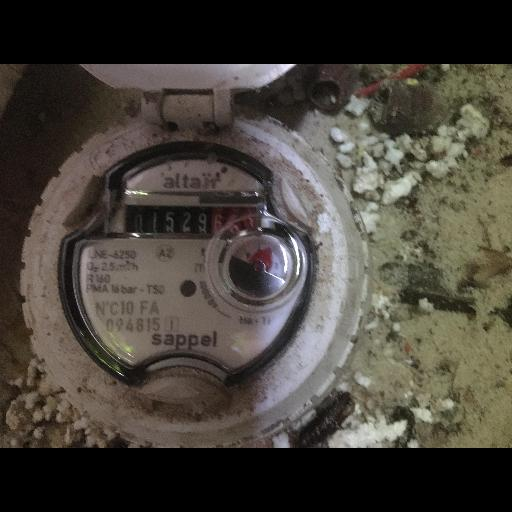0: (131, 205, 145, 233)
1: (243, 206, 258, 229), (150, 205, 161, 233)
2: (180, 206, 194, 234)
5: (164, 206, 178, 234)
6: (227, 207, 241, 233), (212, 207, 225, 234)
9: (195, 206, 209, 234)
border_water_meter_number: (110, 193, 288, 236)
